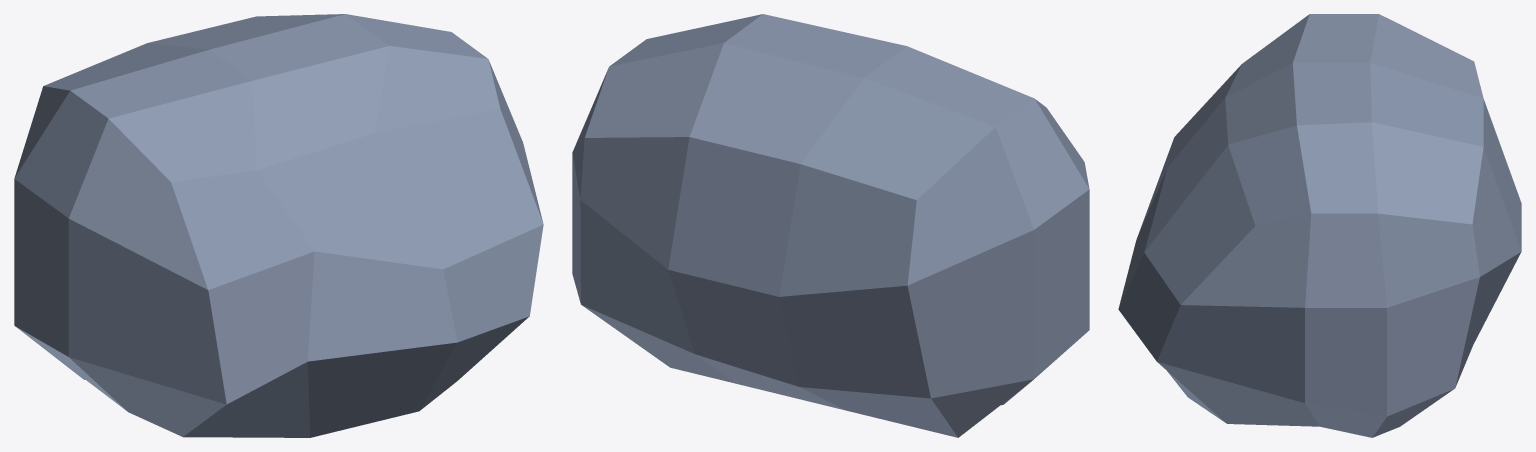
Rendered from Stone_6.fbx.
3 views of the same model, side by side, from view 1: azimuth 30°, elevation 25°; view 2: azimuth 150°, elevation 25°; view 3: azimuth 270°, elevation 25° (orthographic). The views are drawn at different scales.
Parts seen in each view (by area): view 1: Cube.024; view 2: Cube.024; view 3: Cube.024.
Boxes of the visible parts, x1=… form: Cube.024: x1=14, y1=14, x2=543, y2=437; Cube.024: x1=572, y1=14, x2=1089, y2=437; Cube.024: x1=1118, y1=14, x2=1521, y2=437.
Bounding box in the file's own units: 17.09 × 11.29 × 14.31.
